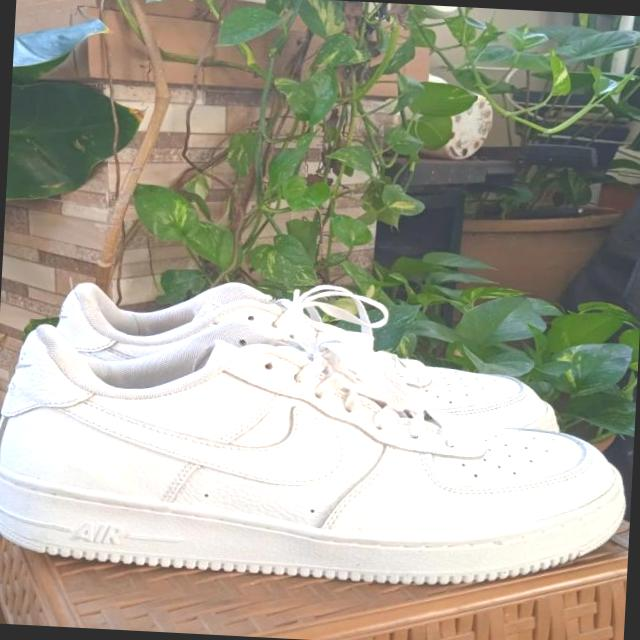nike_fake_airforce: (0, 324, 638, 594), (44, 278, 560, 440)
